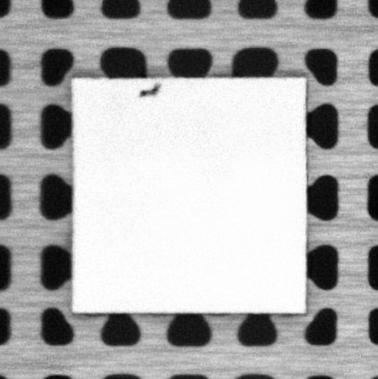DIE_INK: (138, 81, 162, 99)
